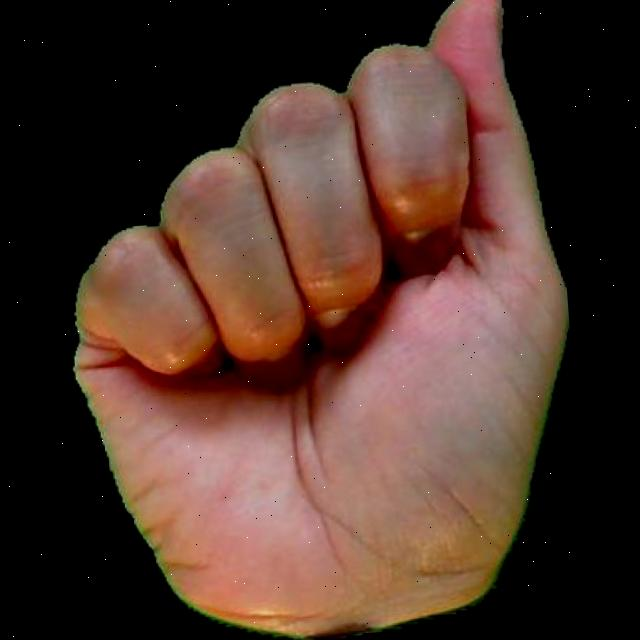a: (26, 0, 608, 640)
